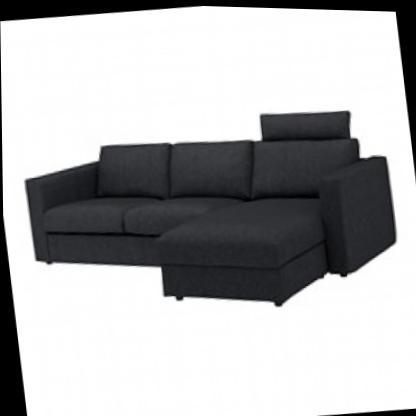Sofa: (3, 55, 411, 350)
